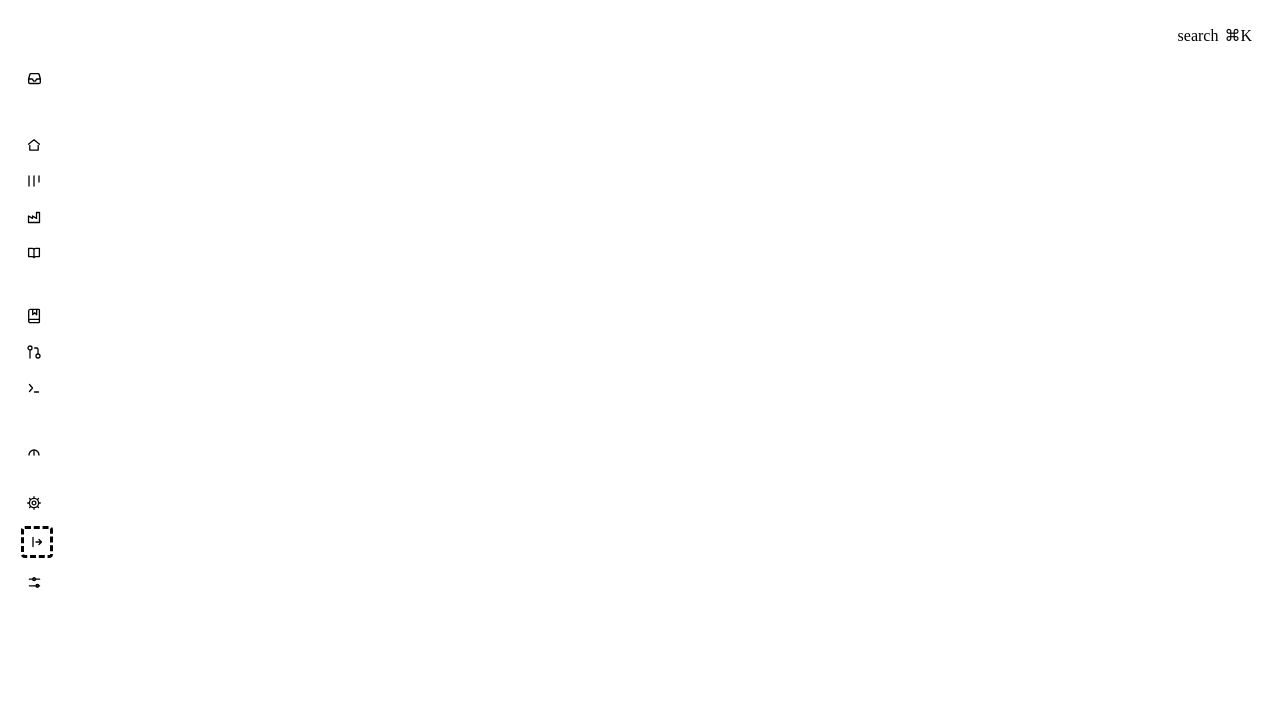
Test: Shell — the palette reads the same array as the rail › never offers a destination the rail is hiding
Type keys "{Meta>}k{/Meta}"
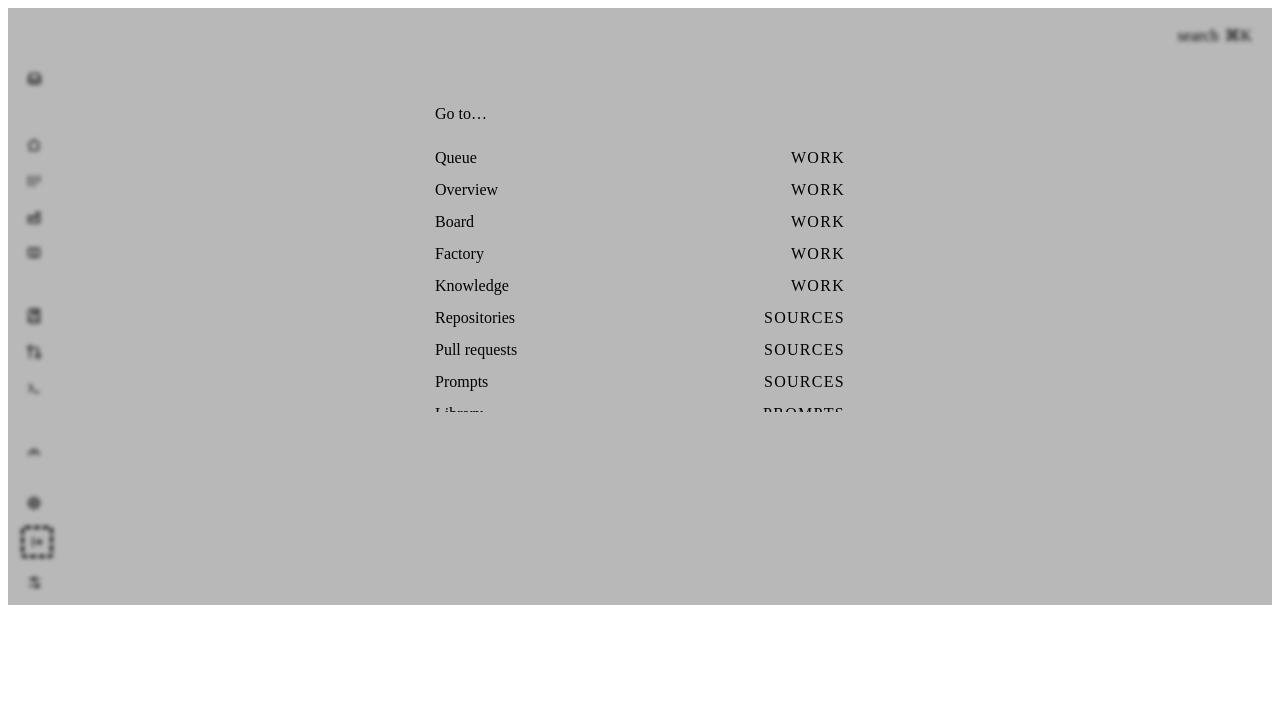
In the field labelled "Go to": coordinates (655, 114) [420,92,890,136], type "team"
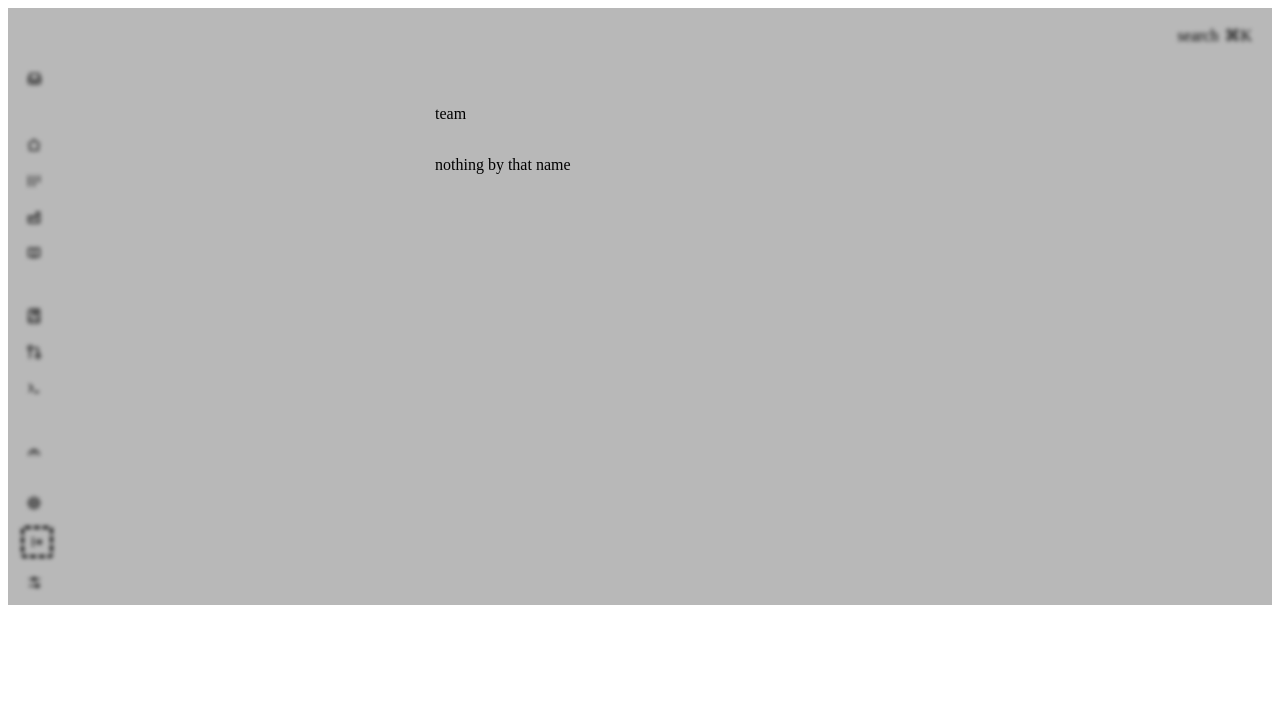
Expected: the text "nothing by that name" is shown, [435,156,570,173]
